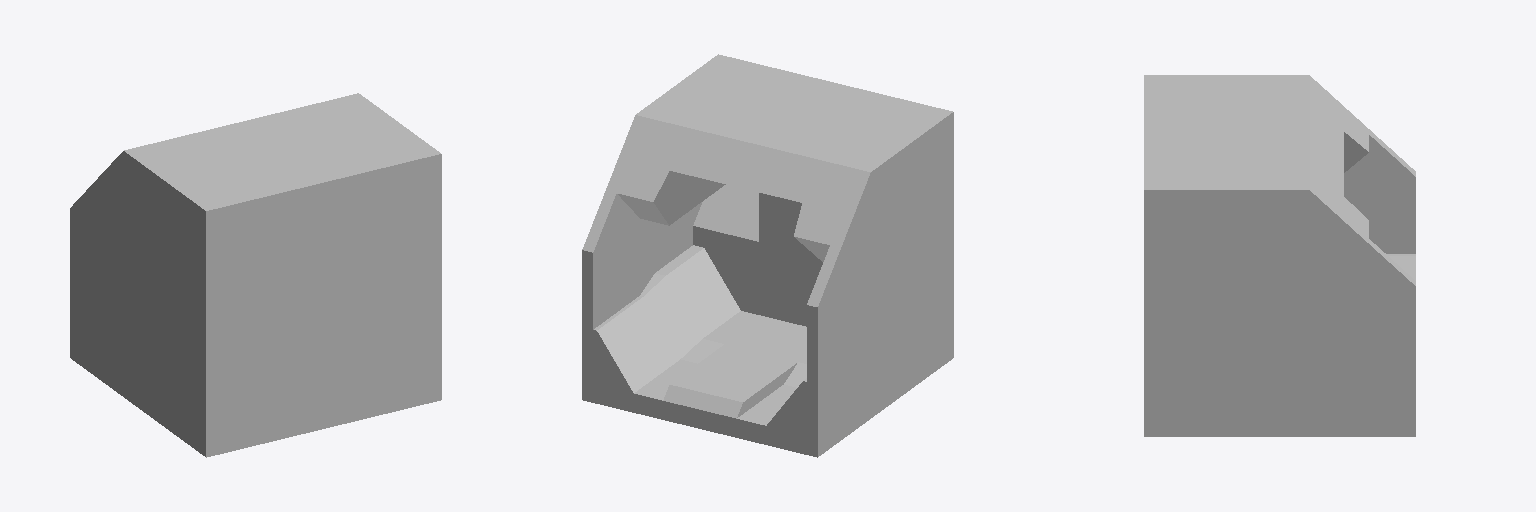
File: minerbase.obj
3 views of the same model, side by side, from view 1: azimuth 30°, elevation 25°; view 2: azimuth 150°, elevation 25°; view 3: azimuth 270°, elevation 25° (orthographic).
Visible parts, largest first — view 1: dock; view 2: dock; view 3: dock.
Part boxes in pixels (left/top/right/bottom): dock: left=70, top=93, right=441, bottom=457; dock: left=582, top=54, right=953, bottom=457; dock: left=1144, top=75, right=1415, bottom=436.
Size of the model in its own units: 40 by 40 by 40.